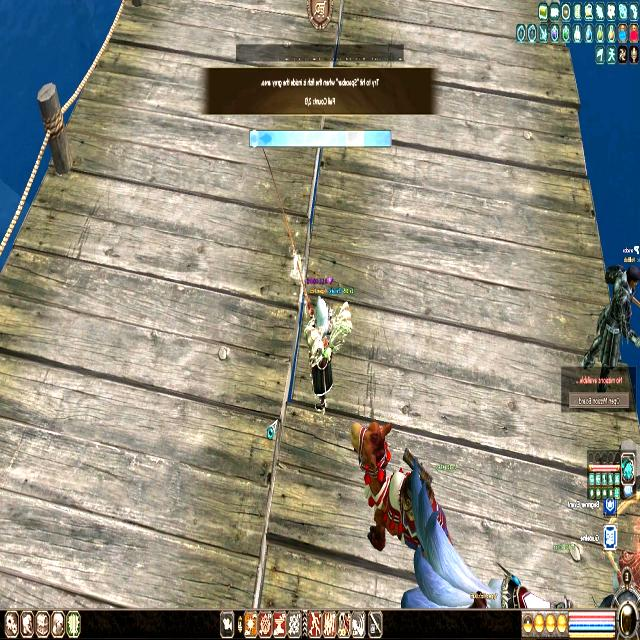fishes: (258, 130, 273, 148)
